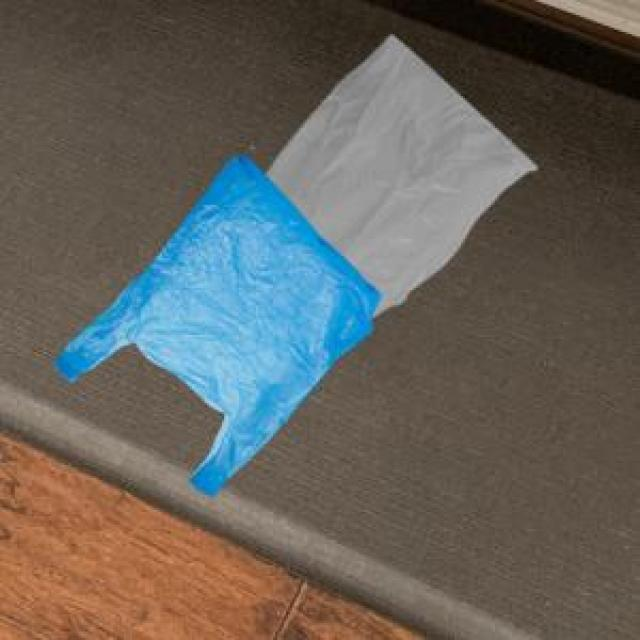waste: (56, 36, 536, 494)
